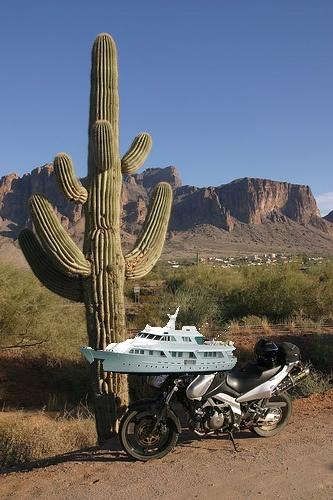tampered: (79, 307, 237, 376)
